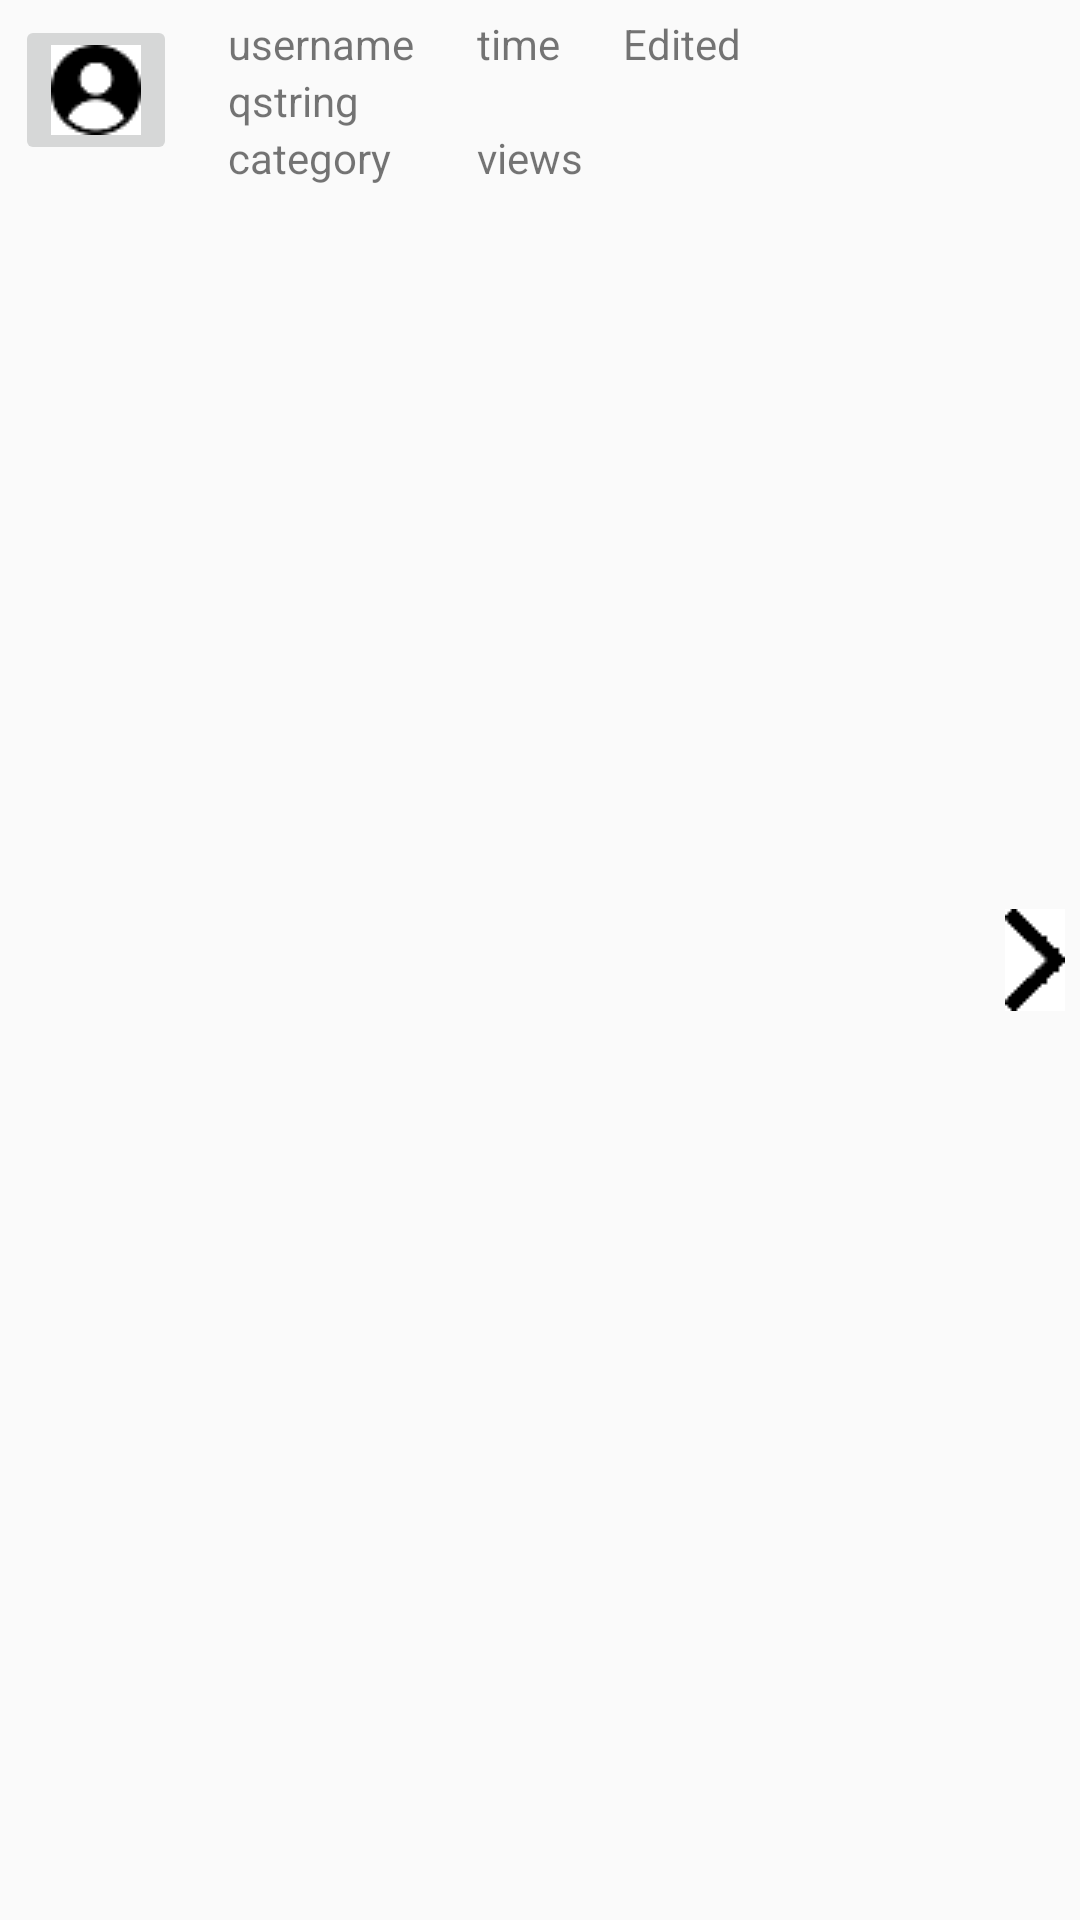

Where to tap for icons on this 1080*1920 app screen, as (x=x, y=y):
anonymous user: (x=96, y=90)
right arrow: (x=1035, y=960)
